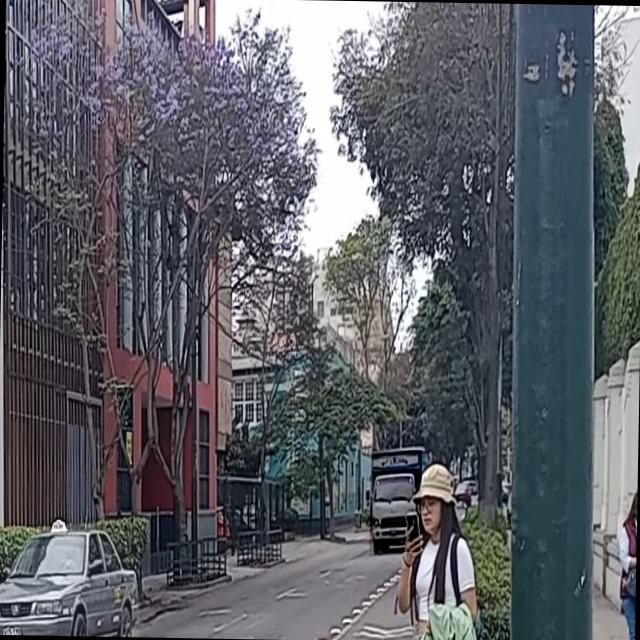car: (0, 527, 140, 636)
truck: (369, 449, 422, 552)
